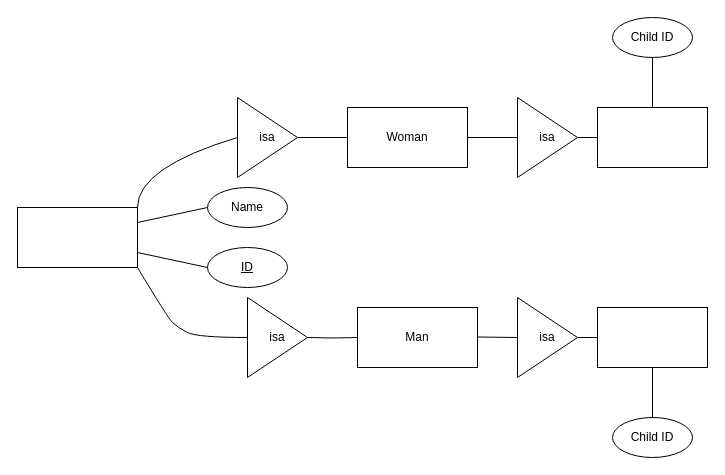
The diagram is 725 pixels wide and 475 high, and some of its shapes have lost their labels. Here are the shapes that lost their labels. From the top down, the centre of each, then its label:
point 652,137: Mother
point 77,237: People
point 652,337: Father
